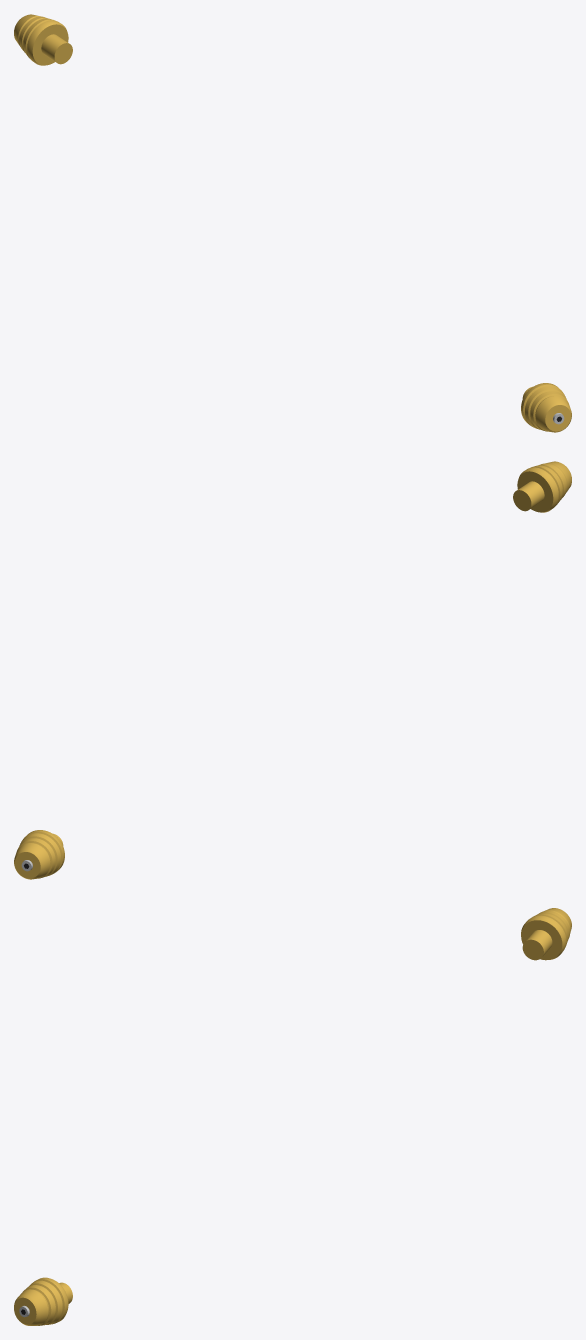
The model's file is tapered.glb.
3 renders of one model, top to bottom at view 1: azimuth 30°, elevation 25°; view 2: azimuth 150°, elevation 25°; view 3: azimuth 330°, elevation 25°, orthographic.
Parts seen in each view (by area): view 1: bar_end_tapered; view 2: bar_end_tapered; view 3: bar_end_tapered.
Part boxes in pixels (x1,y1,x2,y2): bar_end_tapered: (14,14,571,432); bar_end_tapered: (14,461,571,879); bar_end_tapered: (14,908,571,1325).
Bounding box in the file's own units: 0.0371 × 0.0371 × 0.8376.
